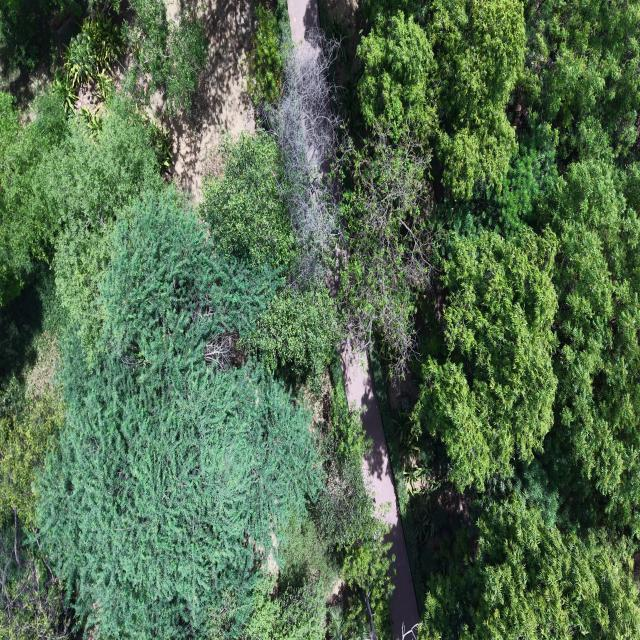DRY_AREA: (340, 341, 419, 639), (341, 341, 419, 639), (150, 0, 255, 200), (169, 0, 255, 199), (288, 0, 319, 44)
VEGETATION_TREE: (0, 0, 639, 639), (0, 3, 390, 639), (343, 0, 639, 638), (38, 192, 319, 637), (0, 94, 161, 637), (0, 93, 161, 333), (413, 229, 557, 490), (545, 156, 639, 538), (359, 0, 525, 198), (418, 495, 639, 639), (49, 97, 161, 353), (0, 270, 73, 639), (0, 0, 208, 116), (341, 129, 437, 375), (313, 361, 393, 637), (512, 2, 639, 166), (421, 0, 525, 198), (265, 30, 342, 283), (0, 379, 72, 639), (202, 134, 303, 279), (0, 94, 67, 304), (203, 134, 298, 268), (243, 520, 336, 639), (359, 12, 436, 141), (126, 0, 207, 115), (0, 518, 73, 639), (0, 389, 64, 524), (249, 287, 338, 380), (53, 10, 125, 112), (0, 0, 83, 74), (64, 13, 124, 93), (248, 4, 282, 106)
